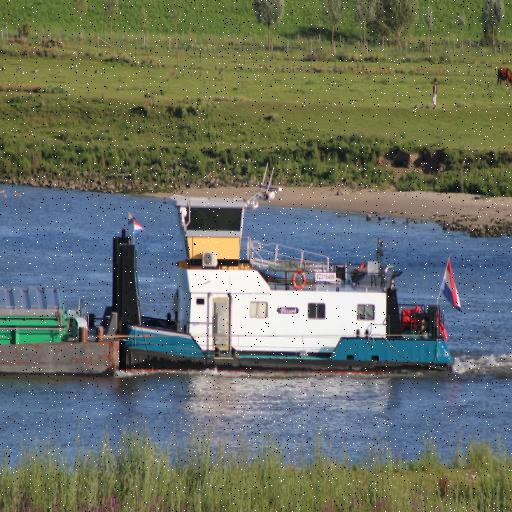tugboat: (105, 158, 464, 384)
